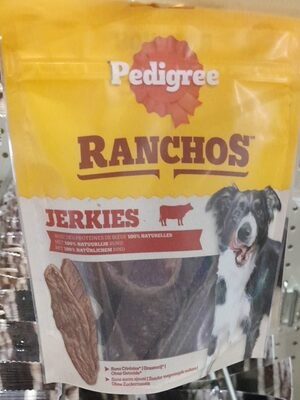RANCHOS JERKIES: (15, 20, 285, 380)
